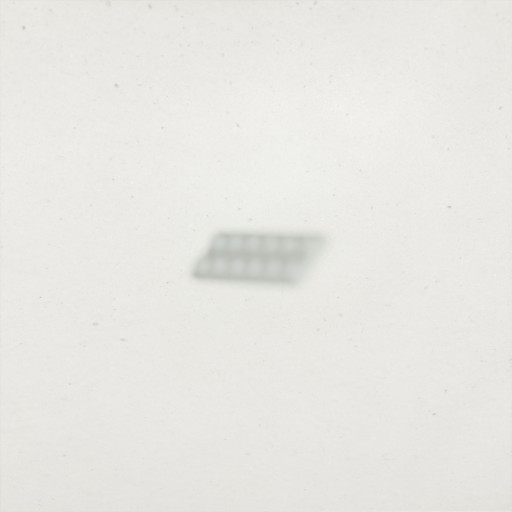lego: (187, 229, 334, 290)
